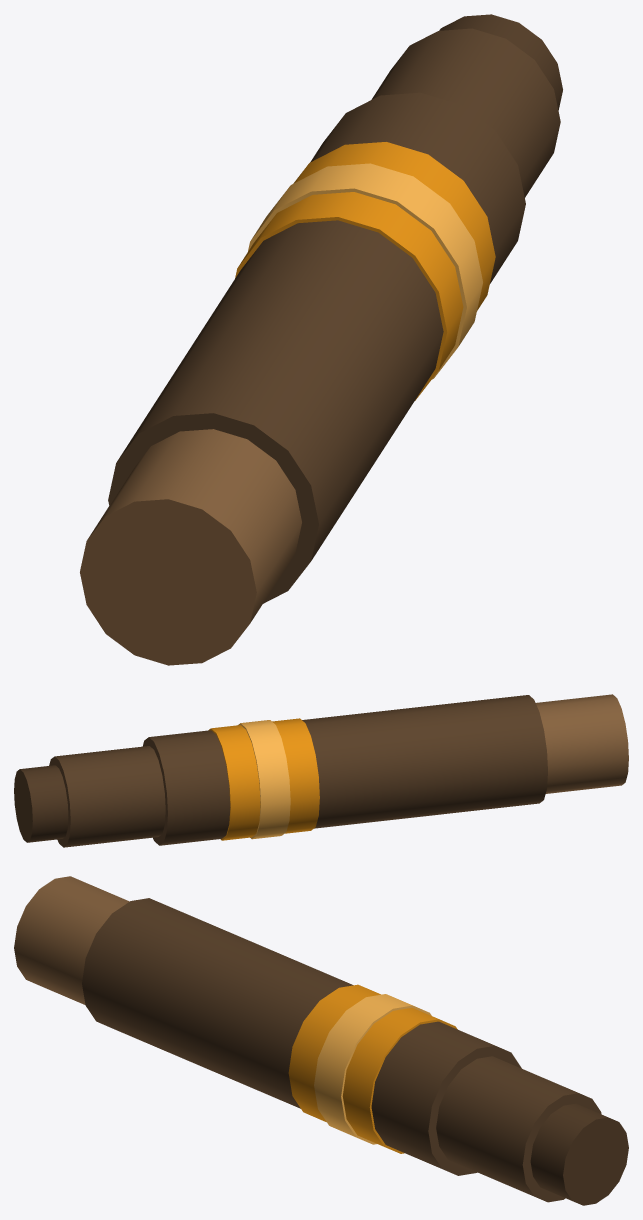
File: CMU3DCigarPrintedSmallCloud.glb
3 renders of one model, top to bottom at view 1: azimuth 30°, elevation 25°; view 2: azimuth 150°, elevation 25°; view 3: azimuth 270°, elevation 25°, orthographic. The views are drawn at different scales.
Visible parts, largest first — view 1: rolled tobacco body segment 1, rolled tobacco body segment 0, raised golden paper band, rolled tobacco body segment 2, gold band highlighted middle, rolled tobacco body segment 3; view 2: rolled tobacco body segment 1, rolled tobacco body segment 2, rolled tobacco body segment 0, raised golden paper band, rolled tobacco body segment 3, gold band highlighted middle; view 3: rolled tobacco body segment 1, rolled tobacco body segment 2, raised golden paper band, rolled tobacco body segment 0, rolled tobacco body segment 3, gold band highlighted middle.
Part boxes in pixels (left/top/right/bottom): rolled tobacco body segment 1: left=108, top=92, right=525, bottom=603; rolled tobacco body segment 0: left=80, top=429, right=301, bottom=665; raised golden paper band: left=235, top=142, right=495, bottom=400; rolled tobacco body segment 2: left=371, top=28, right=560, bottom=197; gold band highlighted middle: left=248, top=163, right=482, bottom=379; rolled tobacco body segment 3: left=439, top=14, right=562, bottom=110; rolled tobacco body segment 1: left=142, top=695, right=547, bottom=845; rolled tobacco body segment 2: left=49, top=746, right=165, bottom=847; rolled tobacco body segment 0: left=536, top=694, right=628, bottom=793; raised golden paper band: left=208, top=718, right=319, bottom=840; rolled tobacco body segment 3: left=14, top=765, right=68, bottom=842; gold band highlighted middle: left=238, top=720, right=290, bottom=839; rolled tobacco body segment 1: left=82, top=898, right=521, bottom=1175; rolled tobacco body segment 2: left=436, top=1056, right=601, bottom=1202; raised golden paper band: left=288, top=984, right=457, bottom=1153; rolled tobacco body segment 0: left=14, top=876, right=129, bottom=1004; rolled tobacco body segment 3: left=530, top=1103, right=628, bottom=1205; gold band highlighted middle: left=314, top=994, right=431, bottom=1144.
Bounding box in the file's own units: 0.3933 × 0.093 × 0.3906.
